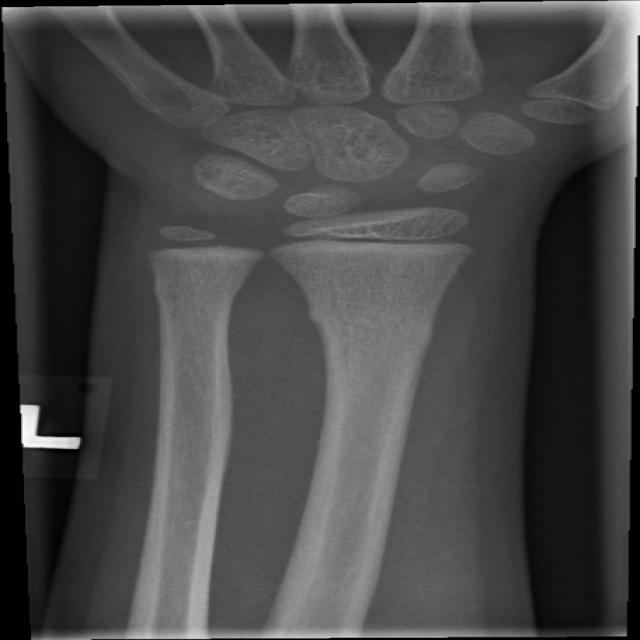radius fracture: (268, 274, 483, 344)
